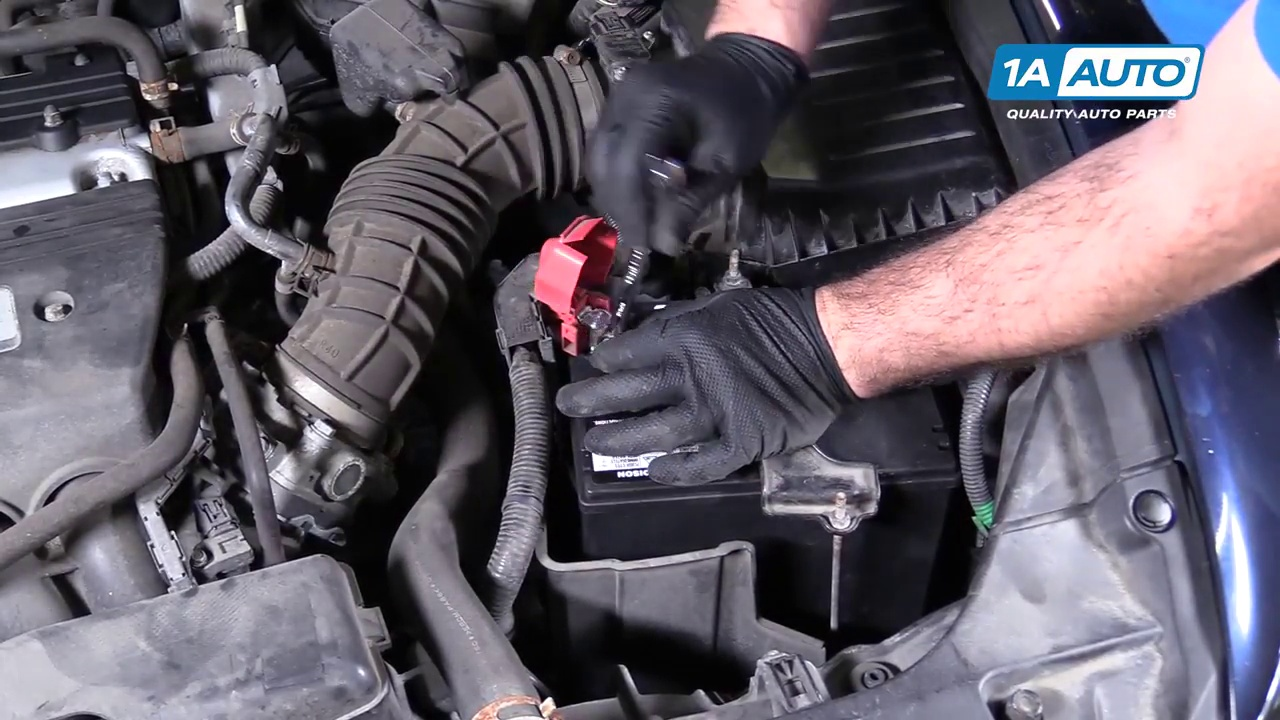battery: (557, 274, 963, 493)
pos_touched: (535, 162, 699, 430)
